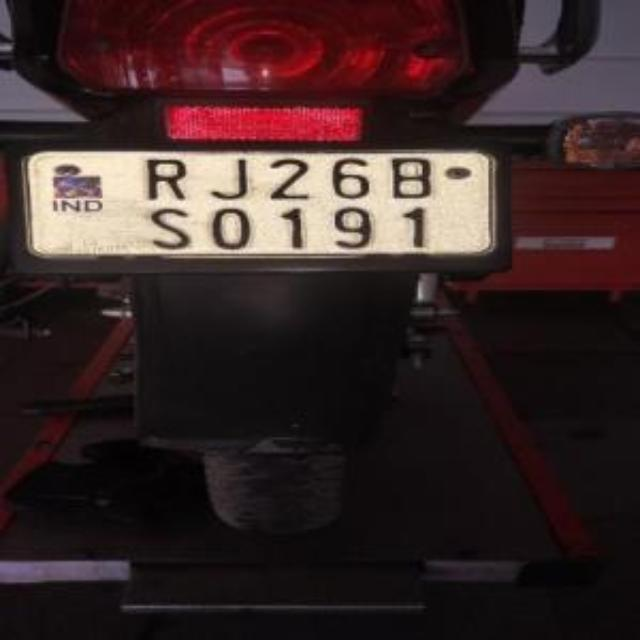License Plate: (37, 154, 483, 257)
